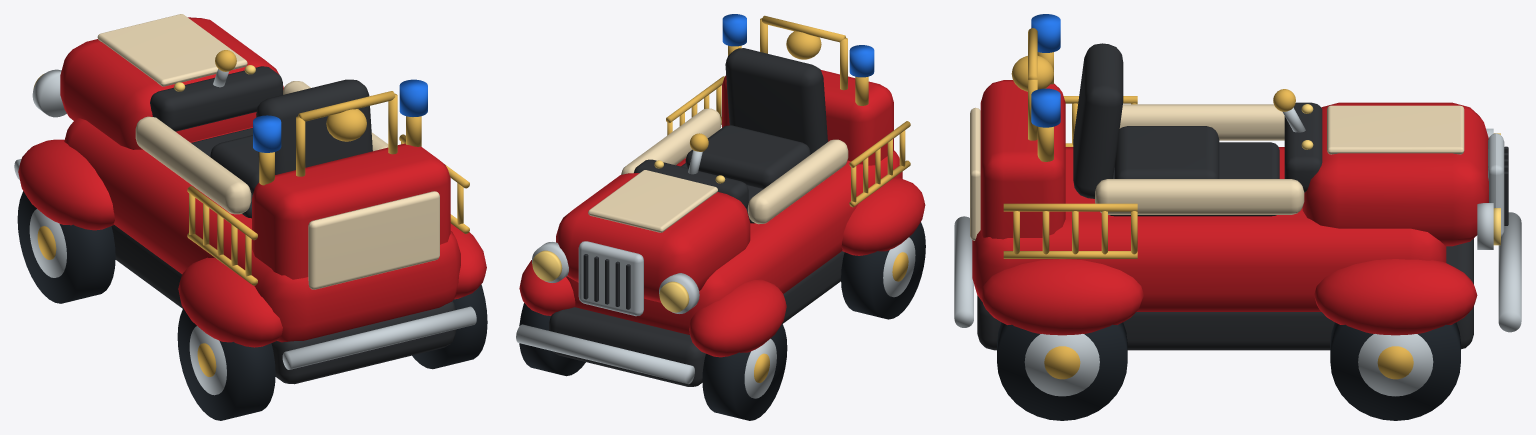
Rendered from brandweerauto-improved.glb.
3 views of the same model, side by side, from view 1: azimuth 30°, elevation 25°; view 2: azimuth 150°, elevation 25°; view 3: azimuth 270°, elevation 25° (orthographic). The views are drawn at different scales.
Parts seen in each view (by area): view 1: Rode carrosserie, Achterbouw, Motorkap, Achterpaneel, Chassis, Spatbord.001, Spatbord, Motorkap accent, Stoelleuning, Tire.001, Tire, Dashboard (+22 smaller); view 2: Rode carrosserie, Motorkap, Stoelleuning, Chassis, Spatbord, Seat_Cushion, Motorkap accent, Achterbouw, Spatbord.001, Tire, Tire.001, Voorbumper (+21 smaller); view 3: Rode carrosserie, Motorkap, Achterbouw, Chassis, Spatbord.002, Spatbord.003, Cockpitrand.001, Motorkap accent, Tire.003, Tire.002, Stoelleuning, Seat_Cushion (+18 smaller).
Boxes of the visible parts, bbox=[...] form: Rode carrosserie: bbox=[64, 118, 460, 342]; Achterbouw: bbox=[252, 143, 450, 279]; Motorkap: bbox=[60, 17, 283, 149]; Achterpaneel: bbox=[308, 191, 439, 289]; Chassis: bbox=[111, 225, 455, 384]; Spatbord.001: bbox=[178, 257, 282, 347]; Spatbord: bbox=[18, 139, 114, 230]; Motorkap accent: bbox=[97, 14, 247, 86]; Stoelleuning: bbox=[256, 79, 372, 174]; Tire.001: bbox=[177, 308, 275, 420]; Tire: bbox=[17, 191, 115, 303]; Dashboard: bbox=[150, 66, 282, 131]; Rode carrosserie: bbox=[566, 150, 902, 334]; Motorkap: bbox=[556, 173, 750, 302]; Stoelleuning: bbox=[725, 48, 827, 154]; Chassis: bbox=[549, 251, 844, 386]; Spatbord: bbox=[689, 279, 786, 357]; Seat_Cushion: bbox=[685, 125, 810, 188]; Motorkap accent: bbox=[588, 170, 717, 232]; Achterbouw: bbox=[722, 70, 893, 165]; Spatbord.001: bbox=[841, 178, 925, 255]; Tire: bbox=[702, 323, 787, 420]; Tire.001: bbox=[841, 222, 925, 319]; Voorbumper: bbox=[516, 324, 694, 384]; Rode carrosserie: bbox=[972, 147, 1446, 311]; Motorkap: bbox=[1302, 102, 1488, 246]; Achterbouw: bbox=[980, 80, 1065, 239]; Chassis: bbox=[977, 238, 1473, 350]; Spatbord.002: bbox=[1314, 259, 1477, 335]; Spatbord.003: bbox=[980, 259, 1143, 335]; Cockpitrand.001: bbox=[1095, 179, 1304, 214]; Motorkap accent: bbox=[1327, 105, 1464, 154]; Tire.003: bbox=[997, 322, 1127, 420]; Tire.002: bbox=[1330, 322, 1460, 420]; Stoelleuning: bbox=[1073, 43, 1123, 198]; Seat_Cushion: bbox=[1114, 126, 1219, 178].
Bounding box in the file's own units: 1.02 × 1.04 × 1.74.
